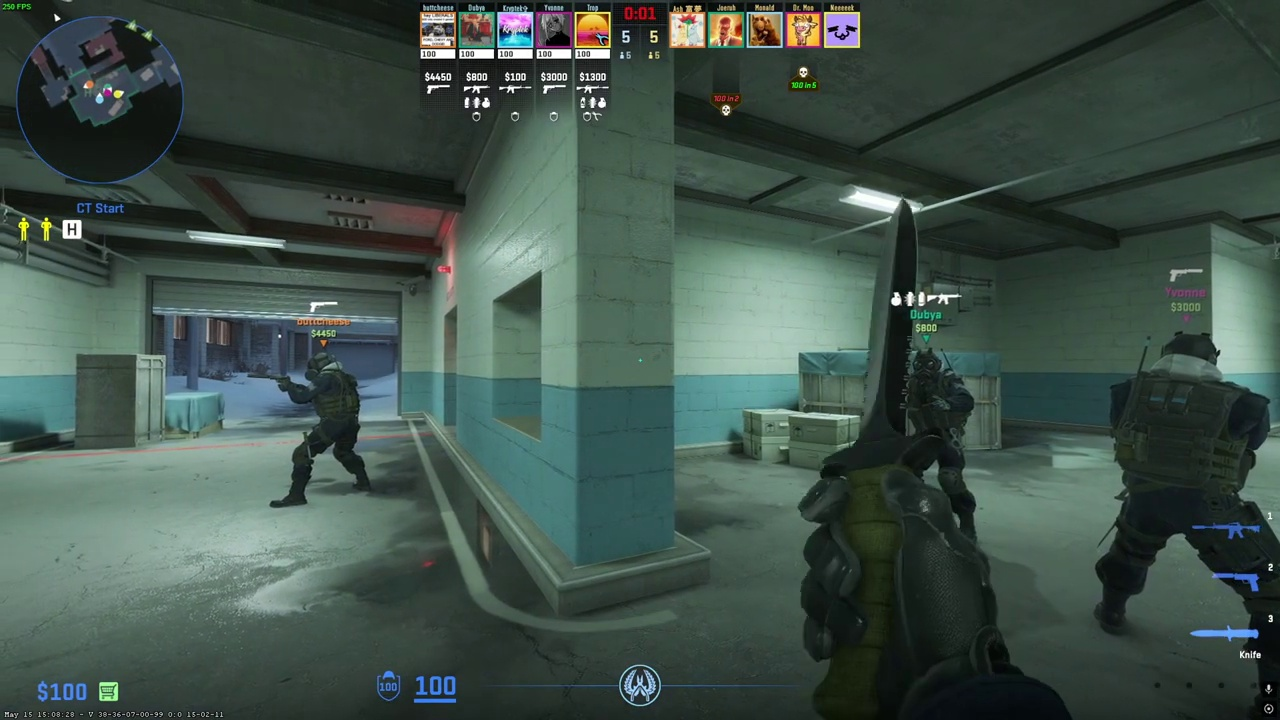CT: (1095, 331, 1279, 715), (895, 347, 977, 532), (278, 352, 367, 506)
